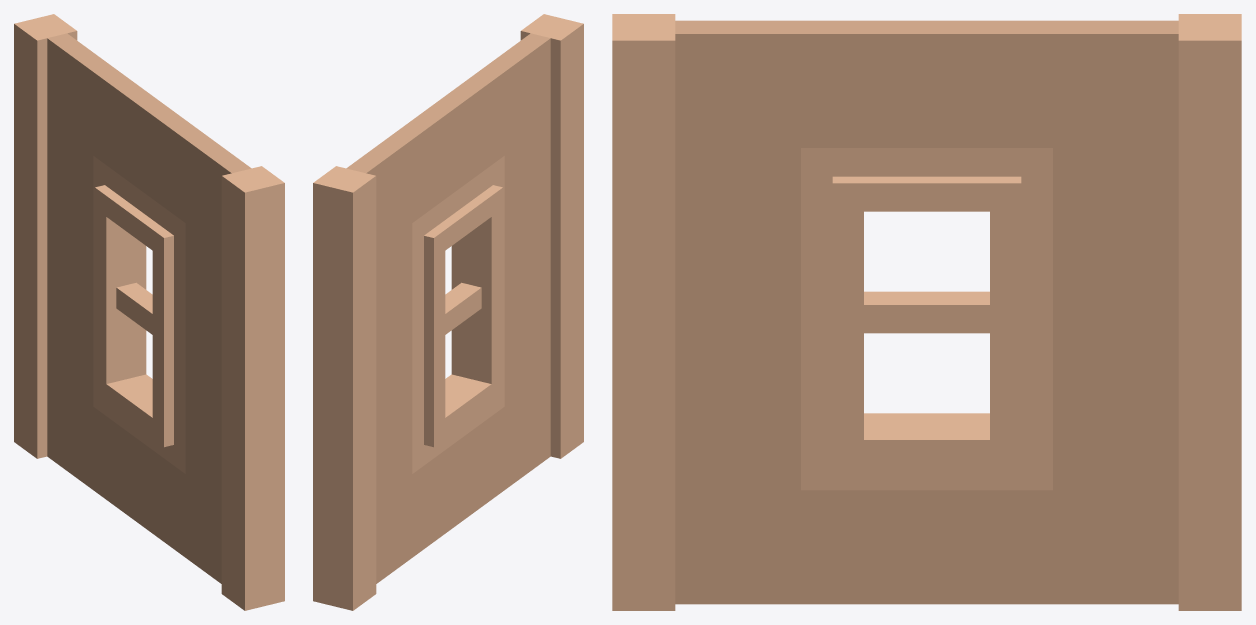
File: wallWoodWindowGlass.glb
3 renders of one model, left to right at view 1: azimuth 30°, elevation 25°; view 2: azimuth 150°, elevation 25°; view 3: azimuth 270°, elevation 25°, orthographic. The views are drawn at different scales.
Visible parts, largest first — view 1: wallWoodWindowGlass; view 2: wallWoodWindowGlass; view 3: wallWoodWindowGlass.
Boxes of the visible parts, x1=… form: wallWoodWindowGlass: x1=14, y1=14, x2=284, y2=610; wallWoodWindowGlass: x1=313, y1=14, x2=583, y2=610; wallWoodWindowGlass: x1=612, y1=14, x2=1241, y2=610.
Size of the model in its own units: 0.1 by 1 by 1.
